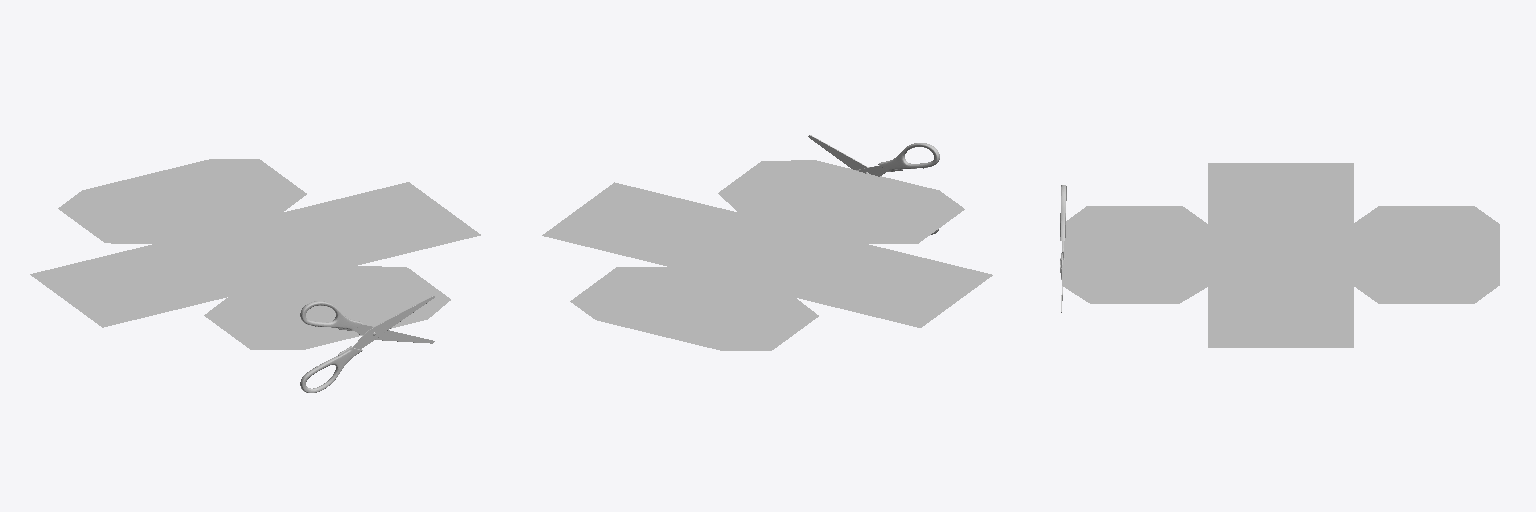
Rendered from Animated_Cube - Trapezio - Outline.obj.
The picture shows the model from 3 angles: view 1: azimuth 30°, elevation 25°; view 2: azimuth 150°, elevation 25°; view 3: azimuth 270°, elevation 25°; orthographic projection.
Parts seen in each view (by area): view 1: Plano.001, Plano, Plano.002, Plano.003, Plano.004, Plano.007, Plano.008, Plano.006, Plano.005, Object_4, Object_9, Object_7; view 2: Plano, Plano.001, Plano.002, Plano.003, Plano.004, Plano.007, Plano.006, Plano.008, Plano.005, Object_9; view 3: Plano, Plano.001, Plano.003, Plano.004, Plano.002, Plano.007, Plano.008, Plano.006, Plano.005.
Boxes of the visible parts, x1,y1,x2,y2 form: Plano.001: [283, 182, 480, 265]; Plano: [156, 213, 353, 296]; Plano.002: [30, 244, 227, 327]; Plano.003: [83, 159, 281, 242]; Plano.004: [230, 266, 427, 349]; Plano.007: [58, 190, 155, 243]; Plano.008: [210, 159, 306, 212]; Plano.006: [204, 297, 300, 349]; Plano.005: [356, 266, 450, 318]; Object_4: [300, 346, 362, 392]; Object_9: [300, 301, 362, 330]; Object_7: [353, 296, 434, 349]; Plano: [668, 213, 866, 296]; Plano.001: [542, 182, 740, 266]; Plano.002: [794, 244, 992, 327]; Plano.003: [596, 267, 793, 350]; Plano.004: [742, 160, 939, 243]; Plano.007: [722, 298, 818, 350]; Plano.006: [868, 191, 964, 243]; Plano.008: [570, 267, 666, 319]; Plano.005: [718, 160, 812, 212]; Object_9: [878, 143, 939, 171]; Plano: [1208, 224, 1353, 285]; Plano.001: [1208, 286, 1353, 347]; Plano.003: [1354, 224, 1499, 285]; Plano.004: [1062, 224, 1207, 285]; Plano.002: [1208, 163, 1353, 223]; Plano.007: [1354, 206, 1498, 223]; Plano.008: [1354, 286, 1497, 303]; Plano.006: [1066, 206, 1206, 223]; Plano.005: [1063, 286, 1207, 303].
Bounding box in the file's own units: 6 × 1.37 × 6.03.